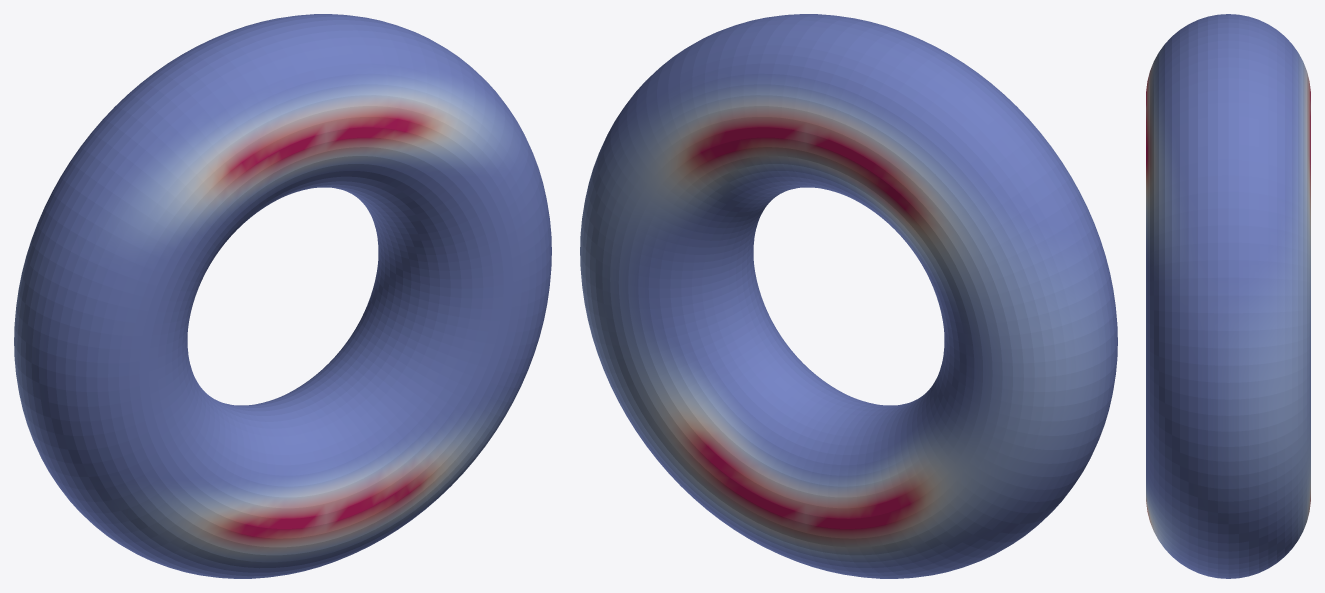
The picture shows the model from 3 angles, left to right: view 1: azimuth 30°, elevation 25°; view 2: azimuth 150°, elevation 25°; view 3: azimuth 270°, elevation 25°; orthographic projection. The views are drawn at different scales.
Parts seen in each view (by area): view 1: world; view 2: world; view 3: world.
Part boxes in pixels (x1,y1,x2,y2): world: [14, 14, 551, 578]; world: [580, 14, 1117, 578]; world: [1146, 14, 1310, 578].
Size of the model in its own units: 15.07 by 15.07 by 4.39.
